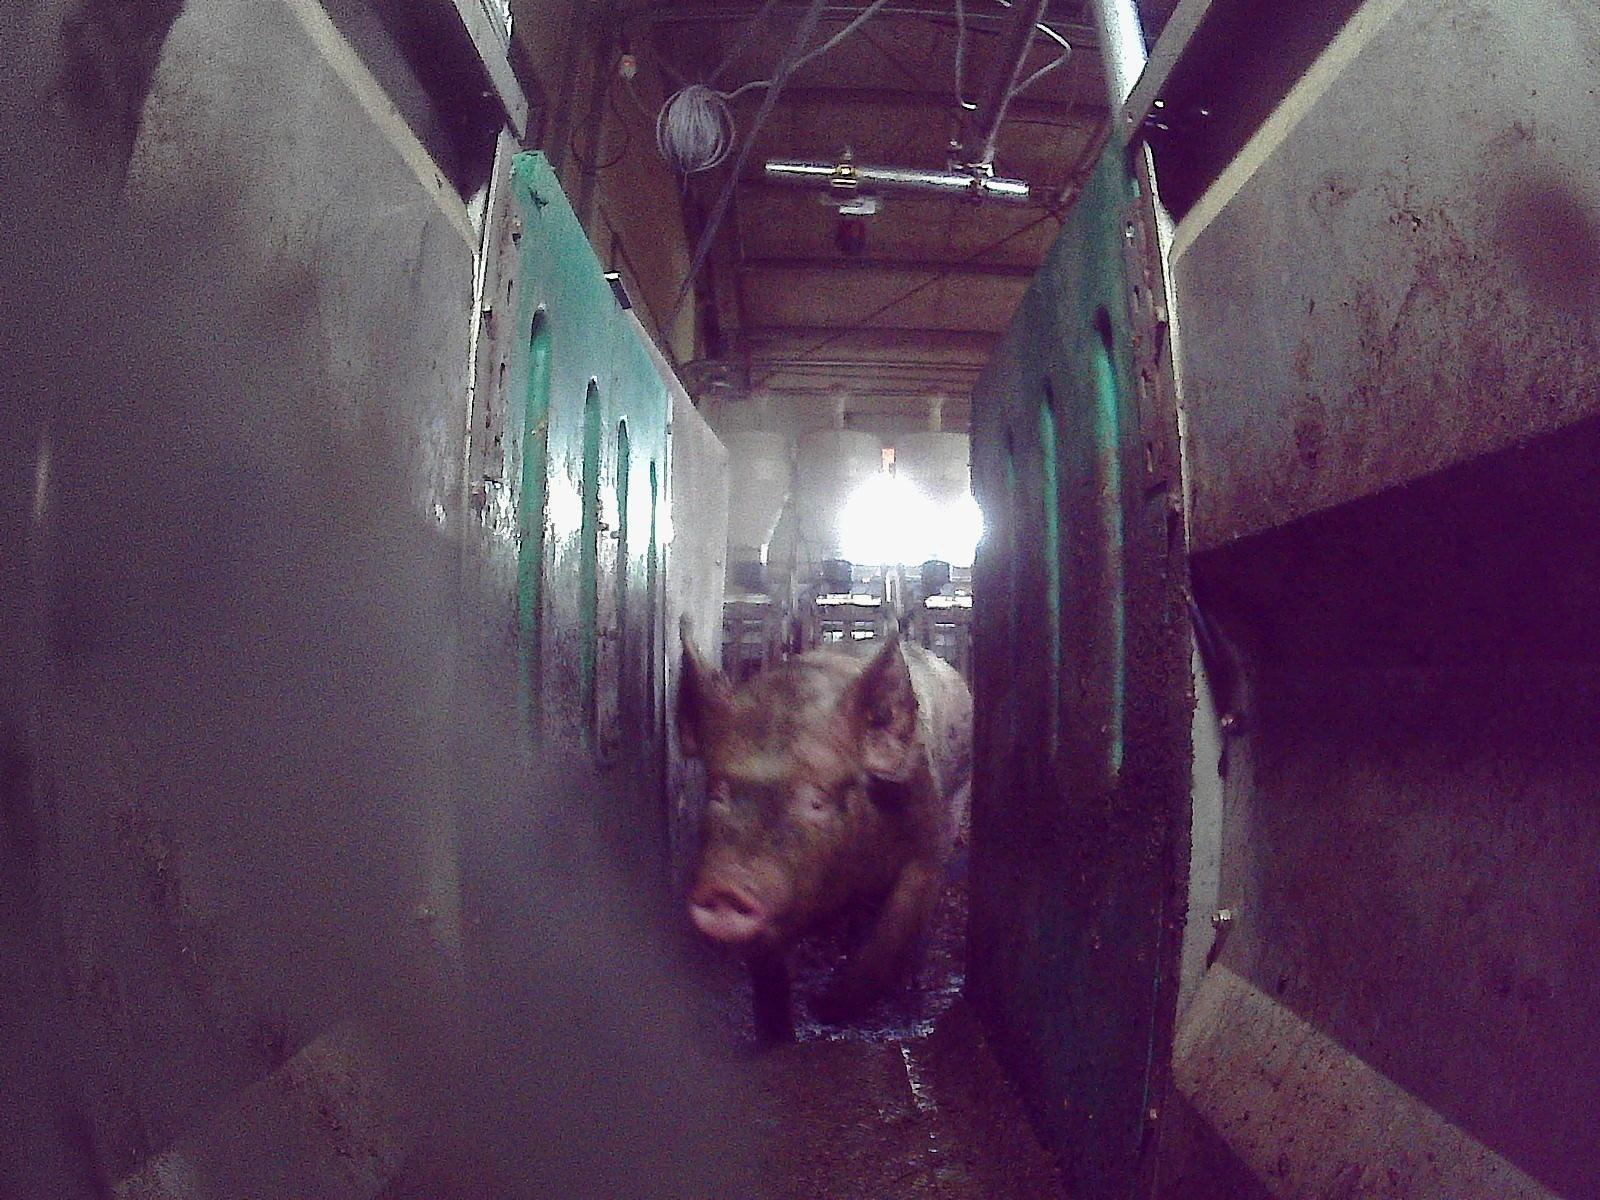Face: (688, 682, 874, 943)
